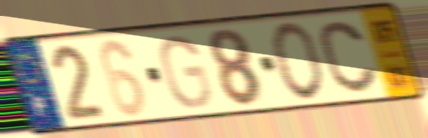2: (52, 41, 111, 125)
6: (96, 36, 152, 120)
8: (208, 25, 265, 109)
C: (317, 18, 382, 96)
G: (158, 33, 214, 112)
O: (269, 19, 327, 103)
